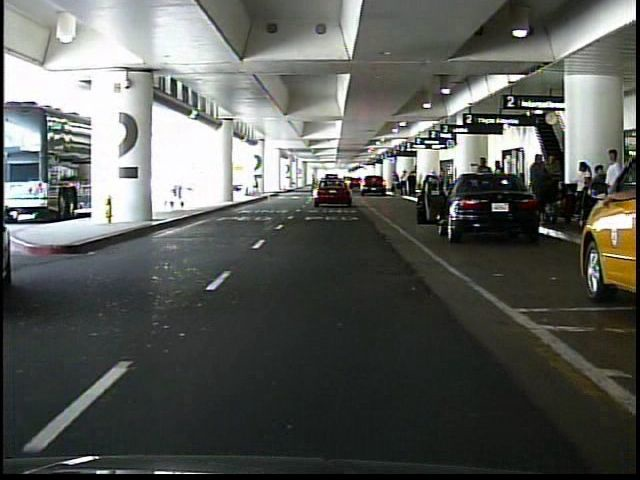person: (603, 147, 623, 237), (531, 153, 554, 214), (572, 159, 593, 225), (589, 163, 610, 228), (475, 157, 493, 212), (493, 158, 508, 212), (402, 169, 411, 198), (409, 172, 418, 199), (395, 175, 403, 195), (310, 174, 319, 191), (555, 150, 556, 223)
